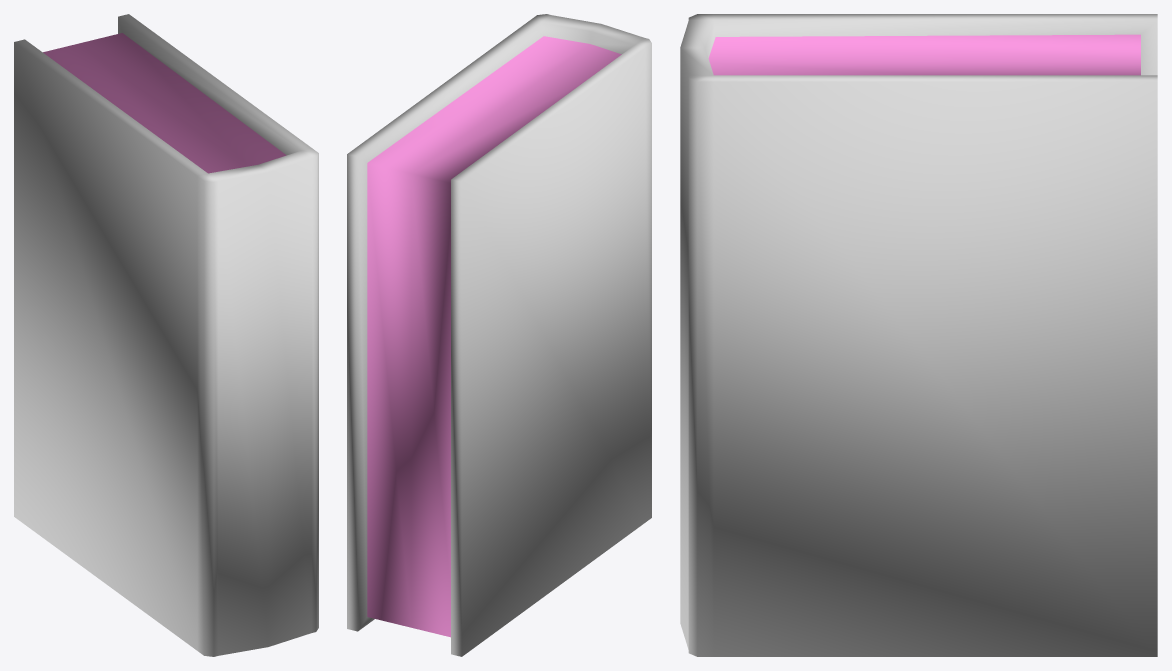
File: Book_01.fbx
3 renders of one model, left to right at view 1: azimuth 30°, elevation 25°; view 2: azimuth 150°, elevation 25°; view 3: azimuth 270°, elevation 25°, orthographic. The views are drawn at different scales.
Visible parts, largest first — view 1: Book_01; view 2: Book_01; view 3: Book_01.
Boxes of the visible parts, bbox=[...] form: Book_01: bbox=[14, 14, 318, 656]; Book_01: bbox=[347, 14, 651, 656]; Book_01: bbox=[680, 14, 1157, 656].
Size of the model in its own units: 0.1024 by 0.3045 by 0.4046.
